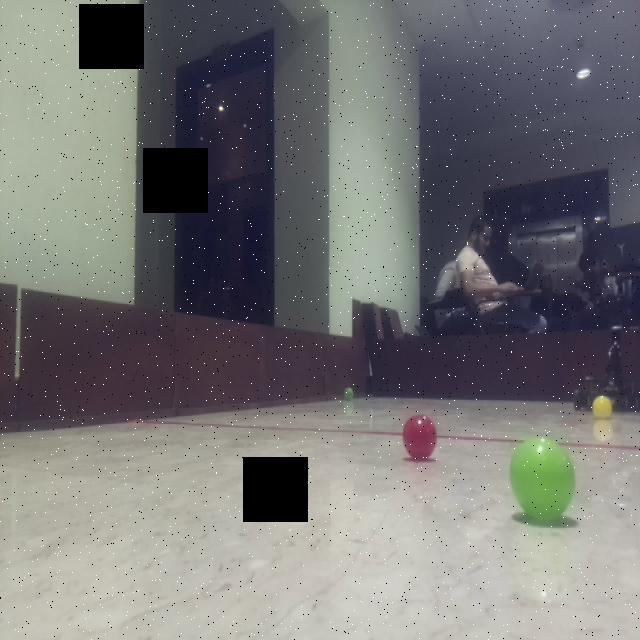ball: (509, 434, 578, 527), (397, 410, 442, 463), (588, 393, 616, 420), (340, 384, 357, 402)
